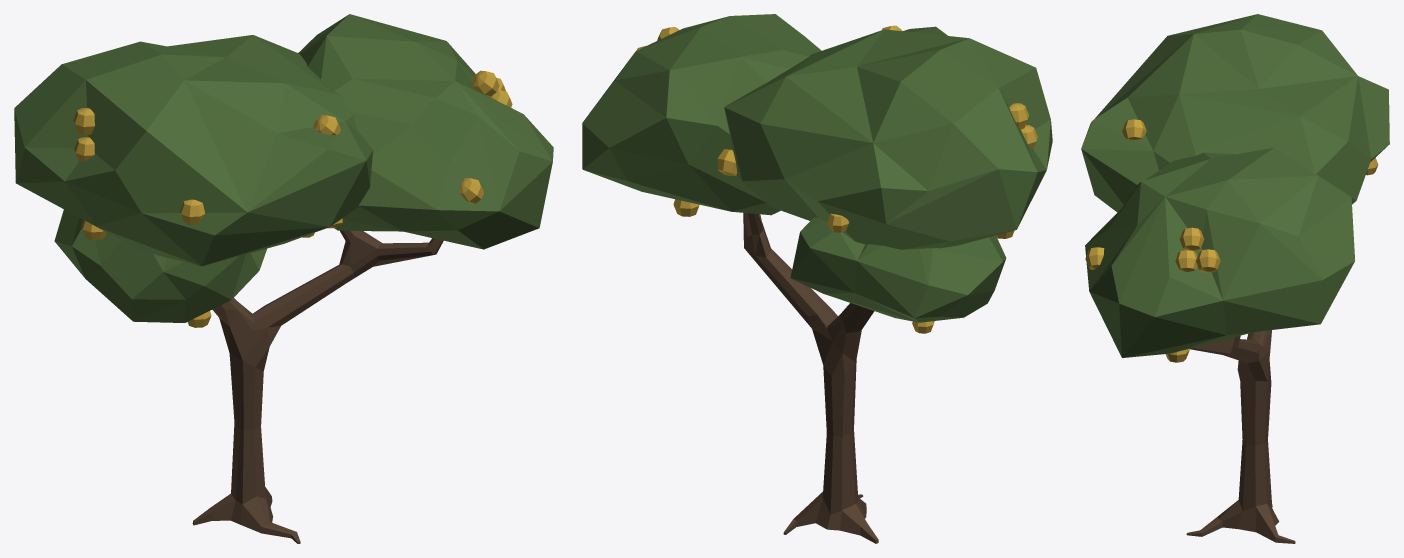
The model's file is SM_Envr_Nature_Farm_Tree_Lemon_Mature.fbx.
3 renders of one model, left to right at view 1: azimuth 30°, elevation 25°; view 2: azimuth 150°, elevation 25°; view 3: azimuth 270°, elevation 25°, orthographic. The views are drawn at different scales.
Parts seen in each view (by area): view 1: SM_Envr_Nature_Farm_Tree_Lemon_Mature; view 2: SM_Envr_Nature_Farm_Tree_Lemon_Mature; view 3: SM_Envr_Nature_Farm_Tree_Lemon_Mature.
Part boxes in pixels (x1,y1,x2,y2): SM_Envr_Nature_Farm_Tree_Lemon_Mature: (14,14,553,543); SM_Envr_Nature_Farm_Tree_Lemon_Mature: (582,14,1052,543); SM_Envr_Nature_Farm_Tree_Lemon_Mature: (1081,14,1389,543).
Bounding box in the file's own units: 647 × 662 × 406.
